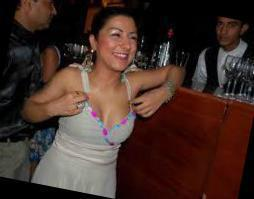Drunk: (104, 16, 139, 71)
